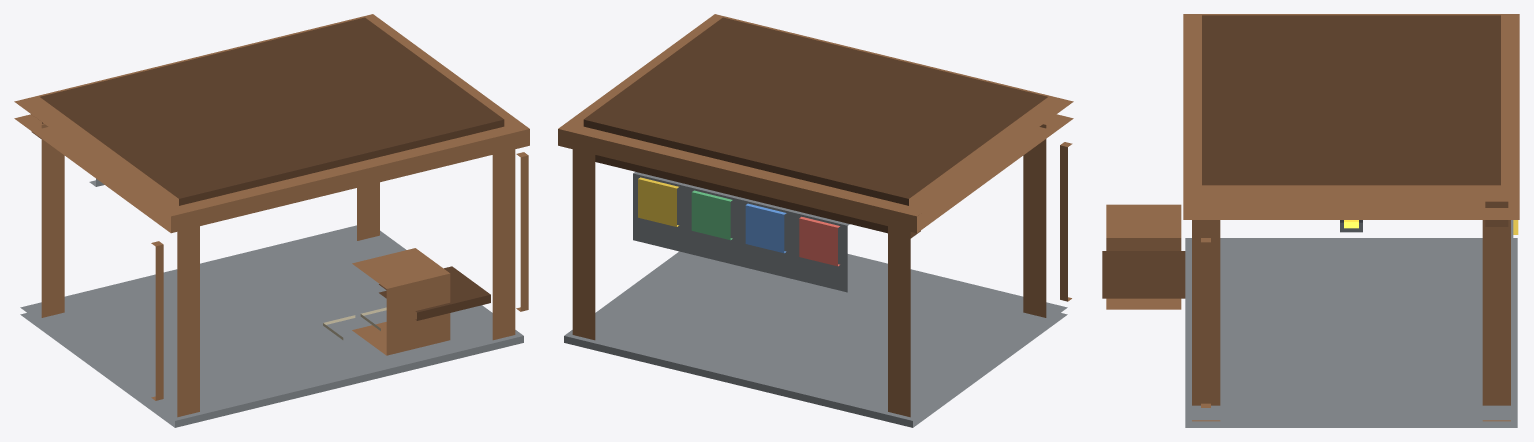
Rendered from gdg_welcome.glb.
3 views of the same model, side by side, from view 1: azimuth 30°, elevation 25°; view 2: azimuth 150°, elevation 25°; view 3: azimuth 270°, elevation 25° (orthographic). The views are drawn at different scales.
Parts seen in each view (by area): view 1: GDG Welcome Reception Pavilion; view 2: GDG Welcome Reception Pavilion; view 3: GDG Welcome Reception Pavilion.
Boxes of the visible parts, <box> form: GDG Welcome Reception Pavilion: <box>14,14,529,427</box>; GDG Welcome Reception Pavilion: <box>558,14,1073,427</box>; GDG Welcome Reception Pavilion: <box>1102,14,1519,427</box>.
Bounding box in the file's own units: 5.56 × 3.14 × 5.03.
